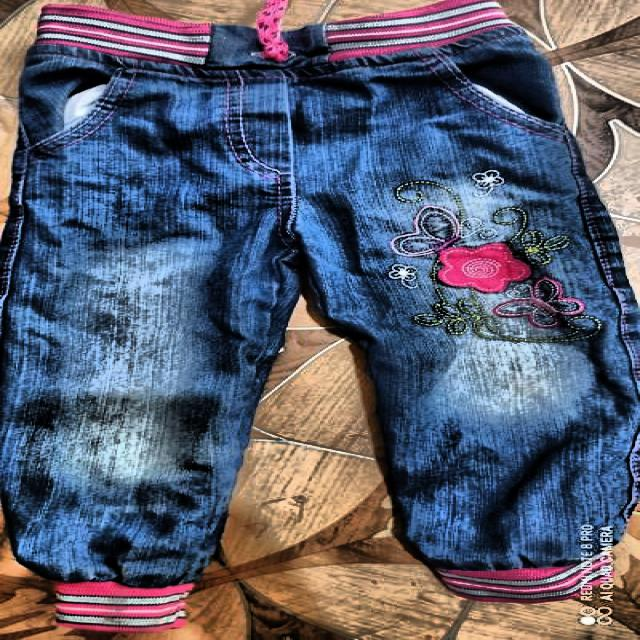clothes: (0, 3, 640, 626)
